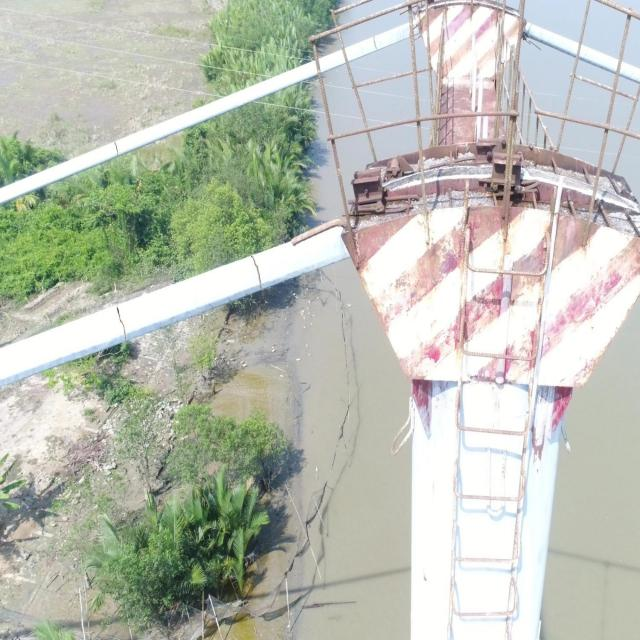crack: (250, 255, 262, 290), (116, 304, 127, 342), (114, 141, 119, 157), (373, 35, 378, 50)
